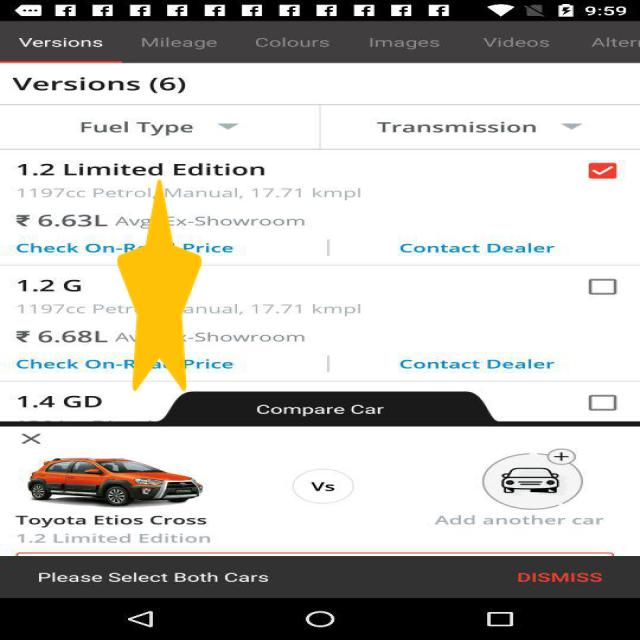forced continuity: (118, 180, 202, 392)
